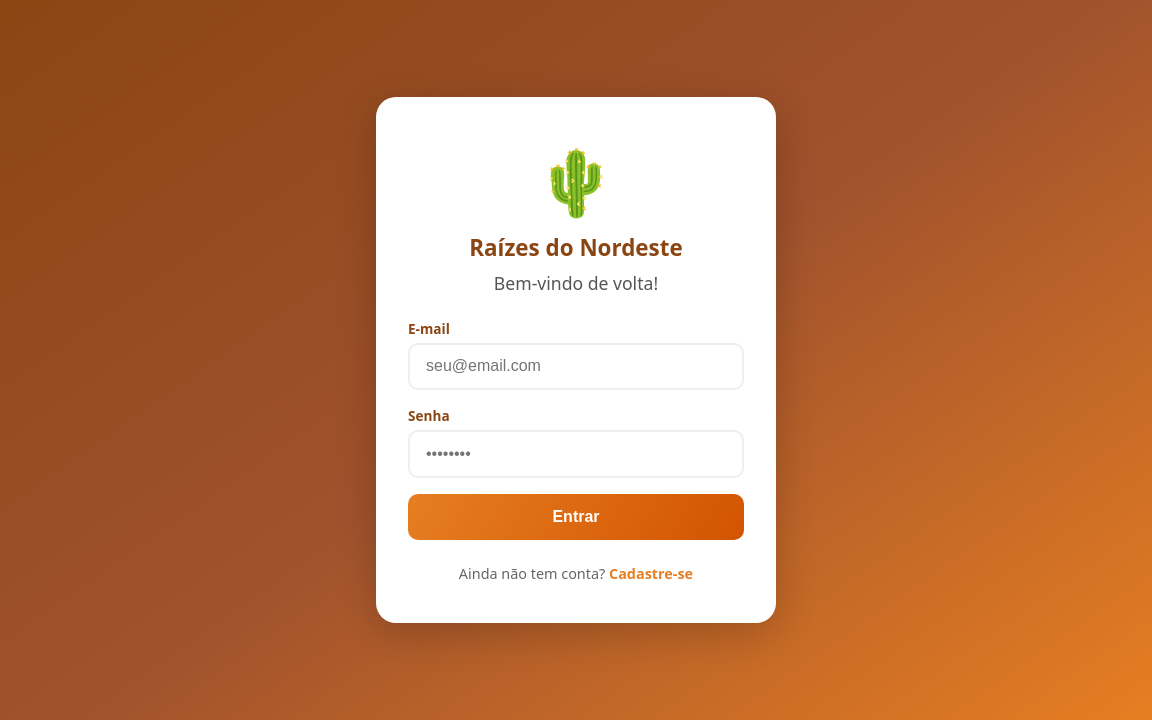
Scenario: Login › deve desabilitar o botao quando esta carregando
Step 1. Type "g@g.com" into the field with id "email" → (576, 366), box [408, 342, 744, 390]
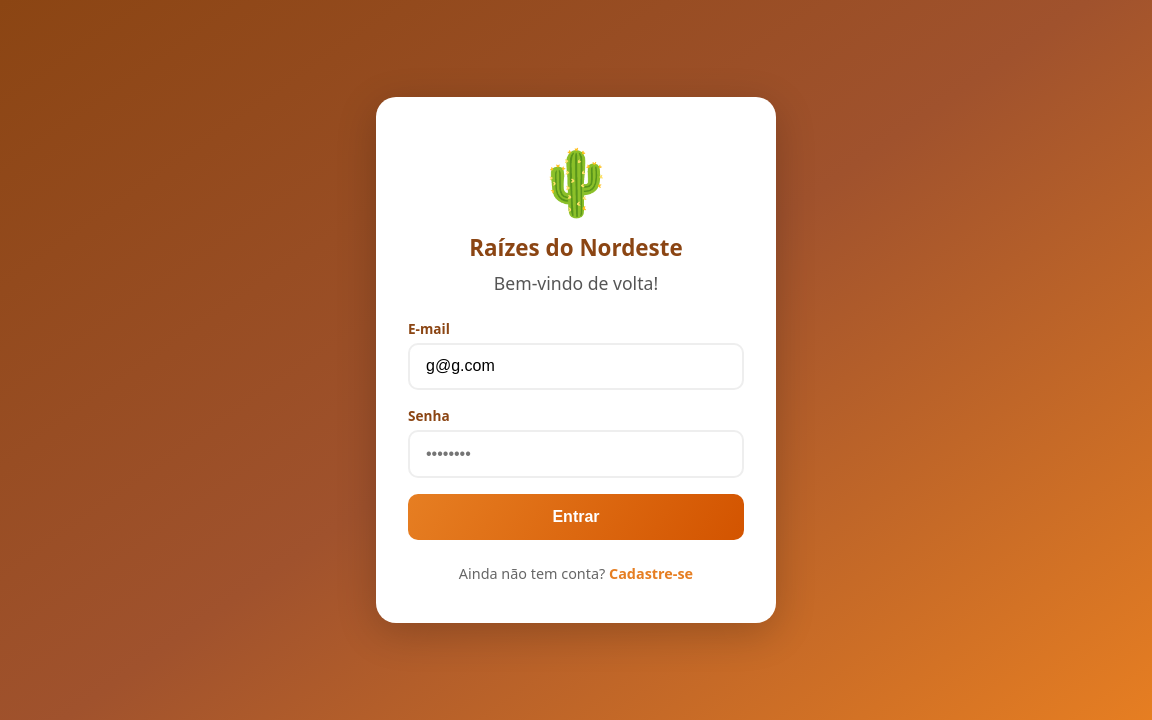
Step 2. Type "senha123" into the password field with id "senha" → (576, 454), box [408, 430, 744, 478]
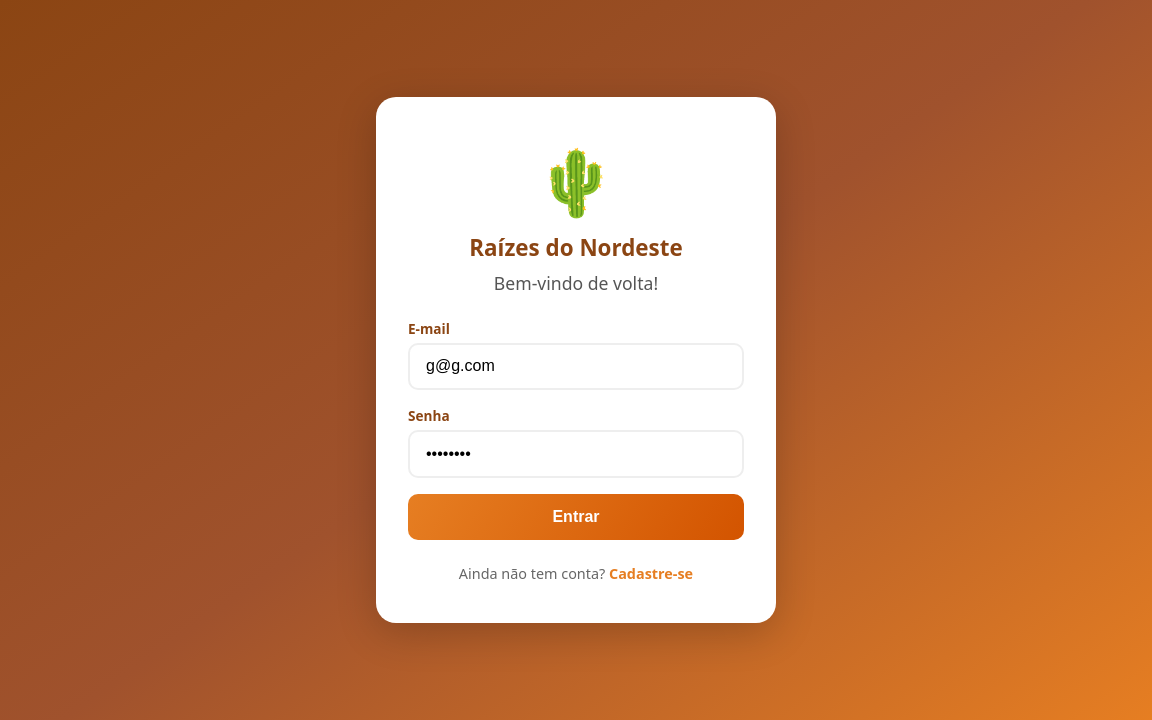
Note: Dispara submit mas não aguarda — deixa em estado carregando
Step 3. Submit the form, box [408, 319, 744, 540]
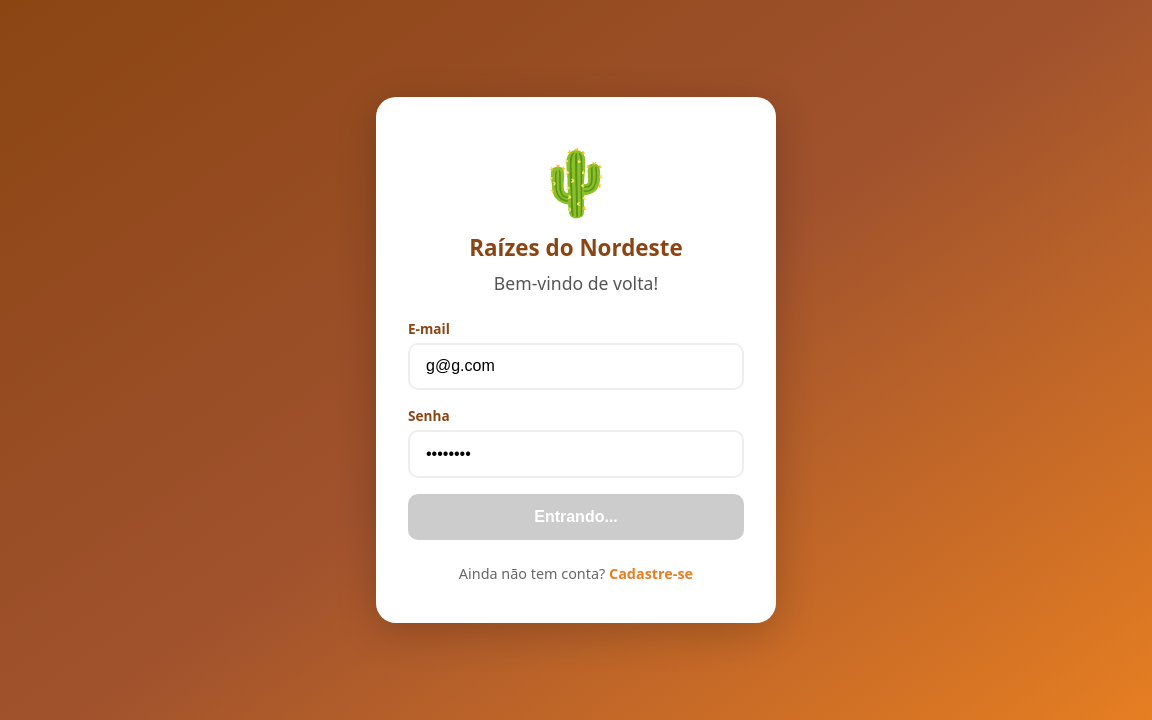
Expected: the submit button is disabled, [408, 494, 744, 540]
